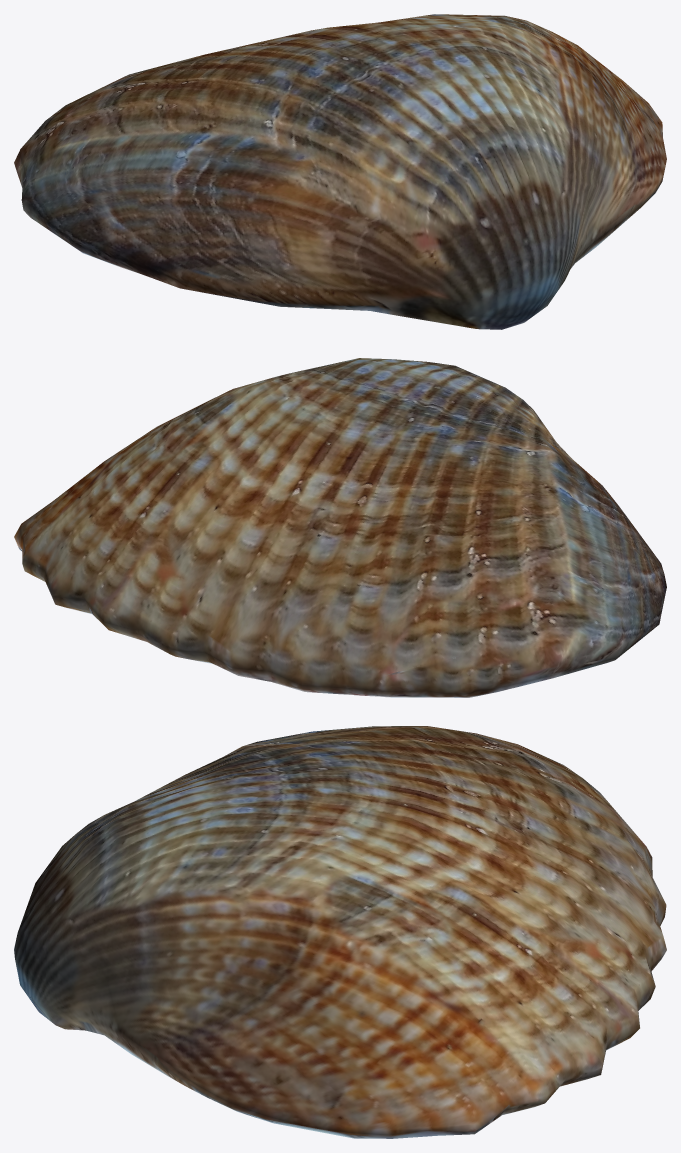
Rendered from Cockle4.fbx.
3 views of the same model, one above another, from view 1: azimuth 30°, elevation 25°; view 2: azimuth 150°, elevation 25°; view 3: azimuth 270°, elevation 25° (orthographic). The views are drawn at different scales.
Parts seen in each view (by area): view 1: Cockle4_LOD0; view 2: Cockle4_LOD0; view 3: Cockle4_LOD0.
Part boxes in pixels (box(x1,y1,x2,y2)): Cockle4_LOD0: box(14, 14, 666, 329); Cockle4_LOD0: box(14, 358, 666, 697); Cockle4_LOD0: box(14, 726, 666, 1138).
Size of what is drawn, in the model's own units: 22.4 by 7.14 by 18.44.
